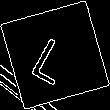L_NE: (29, 26, 81, 84)
